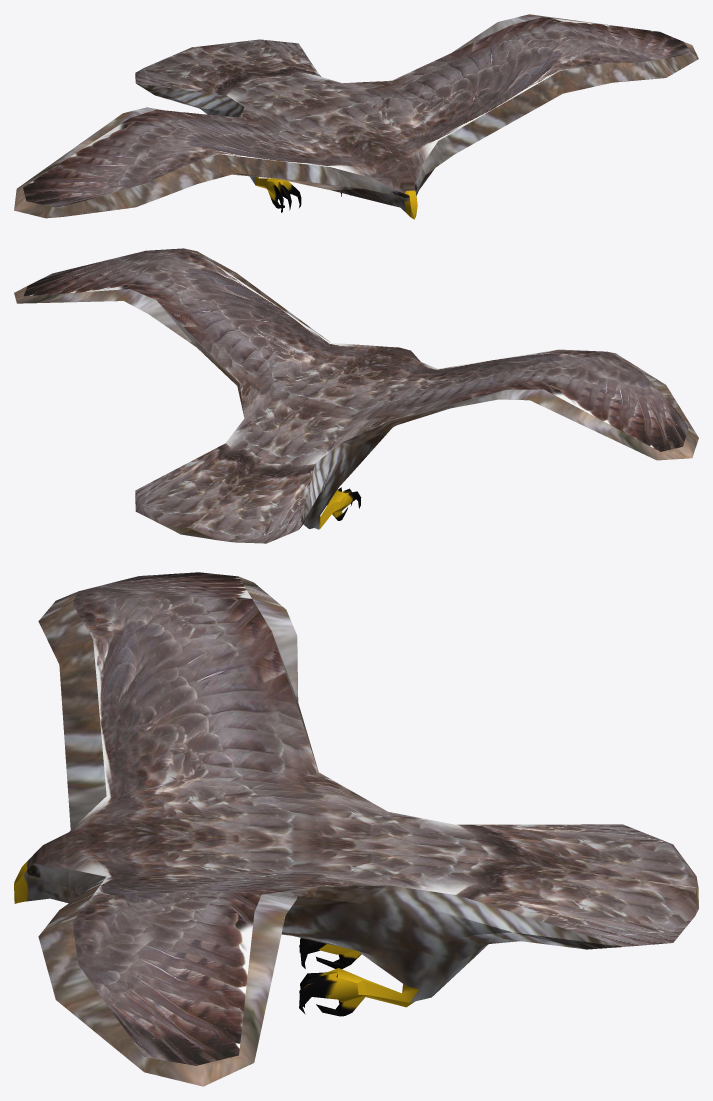
The model's file is hawk_v_c.glb.
The picture shows the model from 3 angles, top to bottom: view 1: azimuth 30°, elevation 25°; view 2: azimuth 150°, elevation 25°; view 3: azimuth 270°, elevation 25°; orthographic projection. The views are drawn at different scales.
Parts seen in each view (by area): view 1: hawk; view 2: hawk; view 3: hawk.
Boxes of the visible parts, bbox=[...] form: hawk: bbox=[14, 14, 698, 219]; hawk: bbox=[14, 248, 698, 543]; hawk: bbox=[14, 572, 698, 1086].
Size of the model in its own units: 8.49 by 1.85 by 4.82.
Materials: 1 (1 with a texture image).
